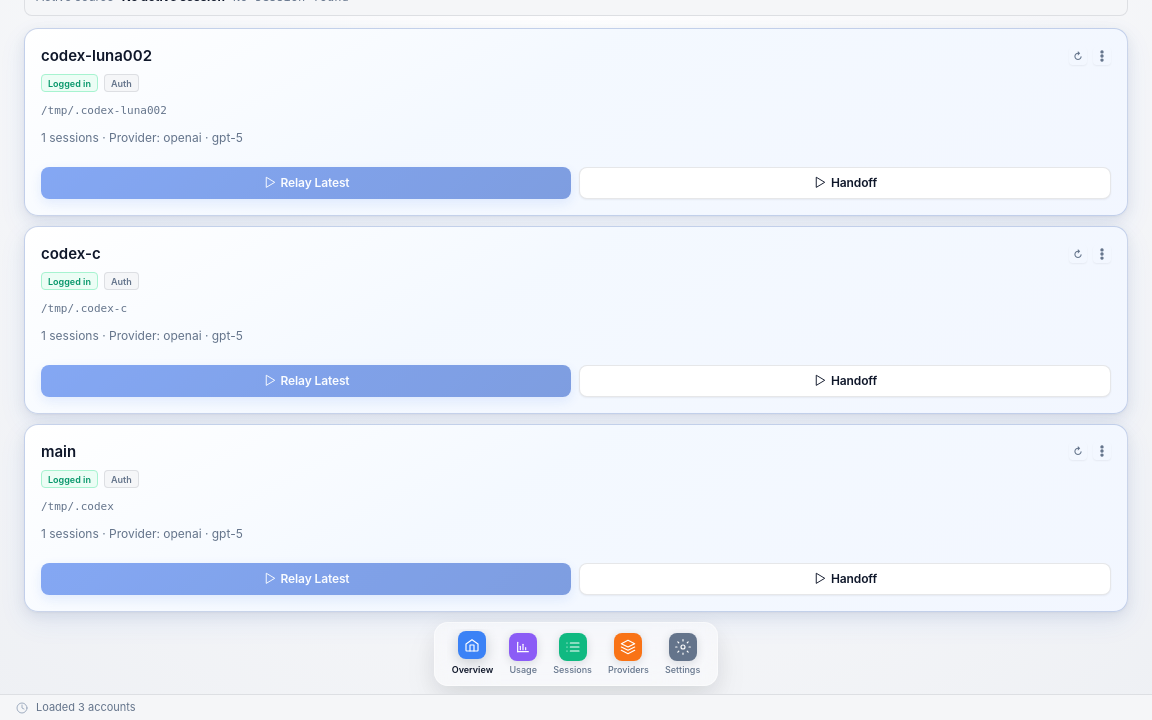
it: App handoff modal › shows a readable error when loading handoff sessions fails
Expected: the text "codex-c" is shown, 41,243 -> 101,264
Click the 2nd button "Handoff". click: click(845, 381)
box: 579,365 -> 1111,397
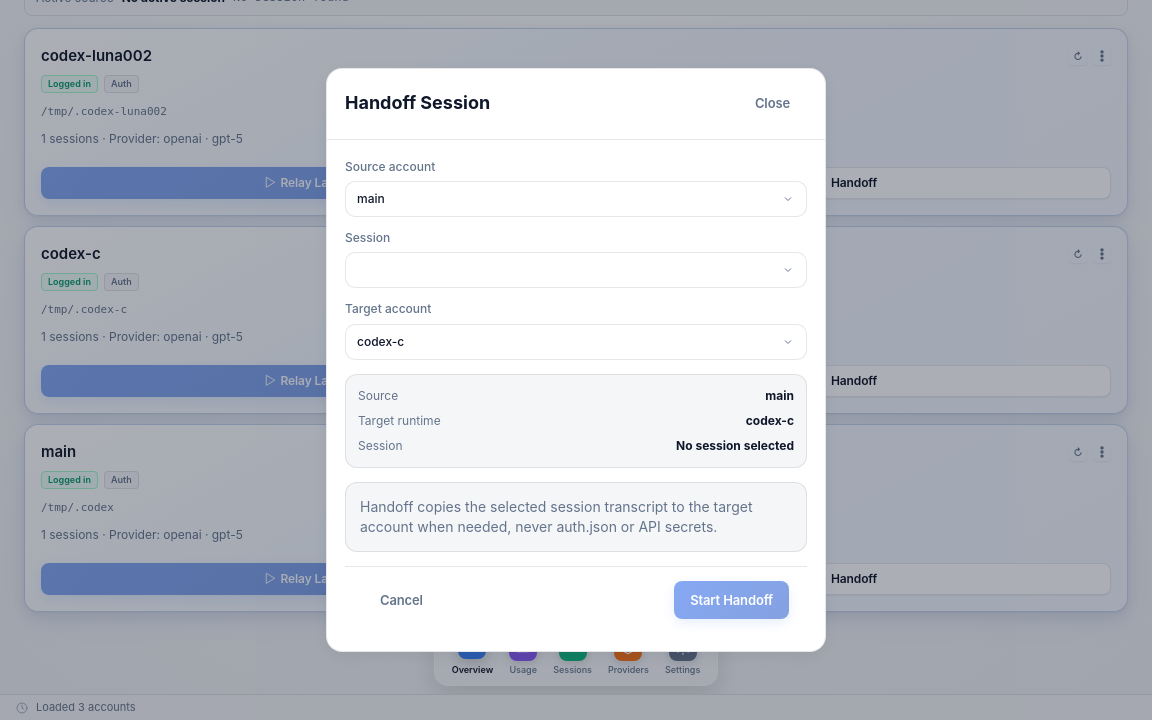
Now the heading "Handoff Session" is shown, box 345,90 -> 490,117
